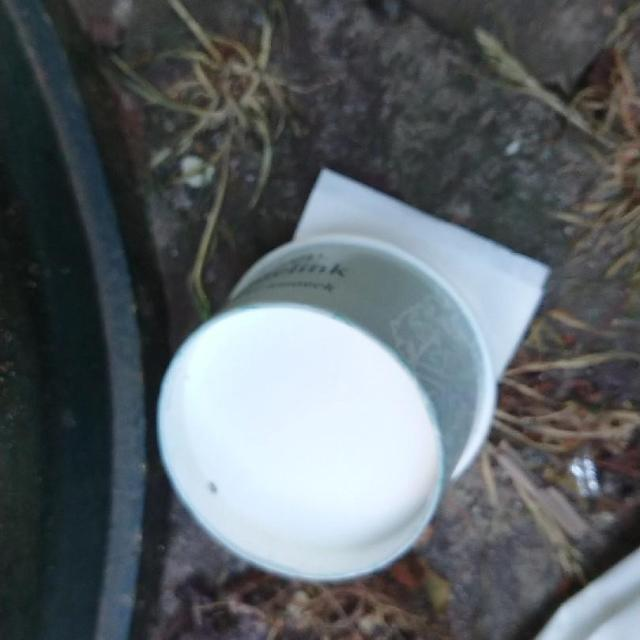Paper: (139, 237, 494, 584), (294, 164, 554, 386)
